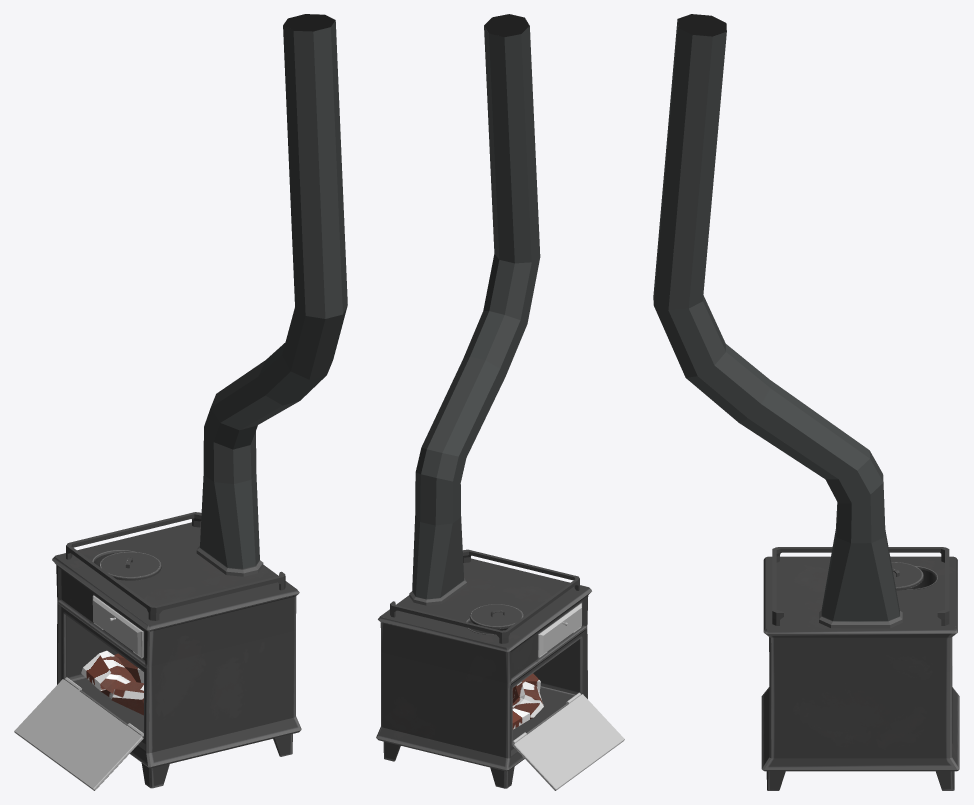
Rendered from woodburning_stove.obj.
3 renders of one model, left to right at view 1: azimuth 30°, elevation 25°; view 2: azimuth 150°, elevation 25°; view 3: azimuth 270°, elevation 25°, orthographic. The views are drawn at different scales.
Parts seen in each view (by area): view 1: body_stove, chimney_stove, latch_stove, fence_stove, wood_stove, small_latch_stove, lid_stove; view 2: body_stove, chimney_stove, latch_stove, fence_stove, wood_stove, small_latch_stove, lid_stove; view 3: chimney_stove, body_stove, fence_stove, lid_stove.
Part boxes in pixels (x1,y1,x2,y2): body_stove: (52, 522, 301, 788); chimney_stove: (196, 14, 347, 576); latch_stove: (14, 677, 143, 790); fence_stove: (66, 512, 285, 620); wood_stove: (81, 650, 143, 715); small_latch_stove: (92, 595, 143, 658); lid_stove: (99, 552, 161, 580); body_stove: (376, 558, 591, 788); chimney_stove: (409, 14, 540, 605); latch_stove: (512, 692, 624, 790); fence_stove: (390, 549, 579, 643); wood_stove: (512, 673, 543, 729); small_latch_stove: (538, 603, 581, 657); lid_stove: (469, 604, 523, 629); chimney_stove: (653, 14, 902, 628); body_stove: (761, 556, 959, 790); fence_stove: (772, 547, 949, 625); lid_stove: (891, 562, 923, 590).
Size of the model in its own units: 12.17 by 44.36 by 16.2.
